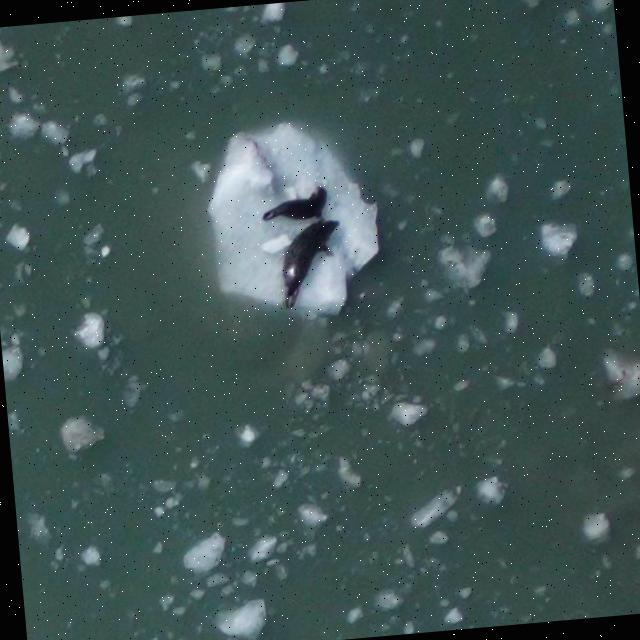seal: (254, 203, 352, 313), (260, 186, 328, 221)
